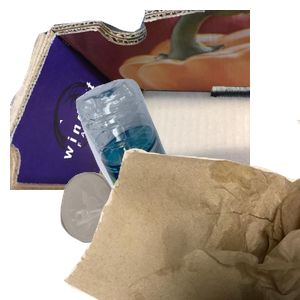cardboard: (10, 10, 250, 190)
glass: (58, 170, 202, 300)
plastic: (73, 76, 300, 256)
trash: (60, 120, 300, 300)
